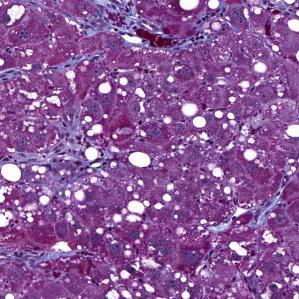fibrosis: (81, 10, 143, 37)
